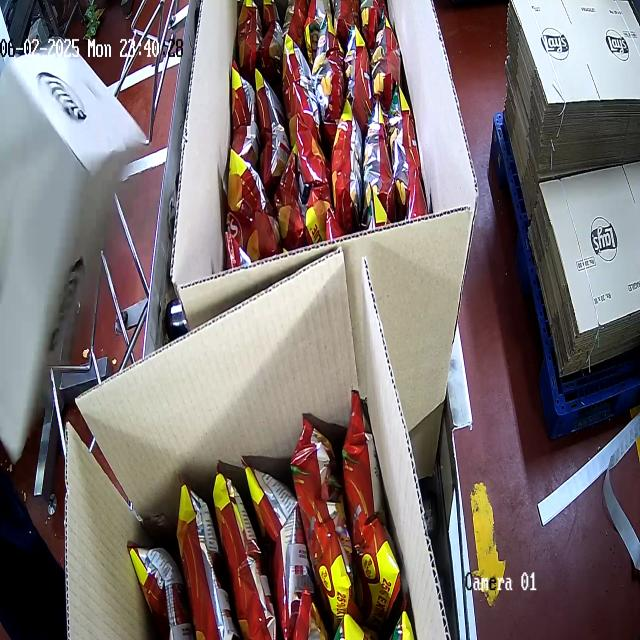MASALA: (118, 425, 401, 640), (225, 0, 406, 259)
